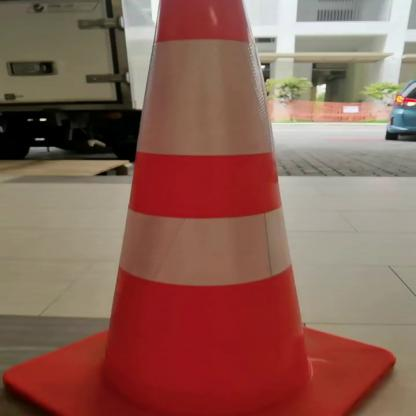cone: (0, 0, 402, 416)
